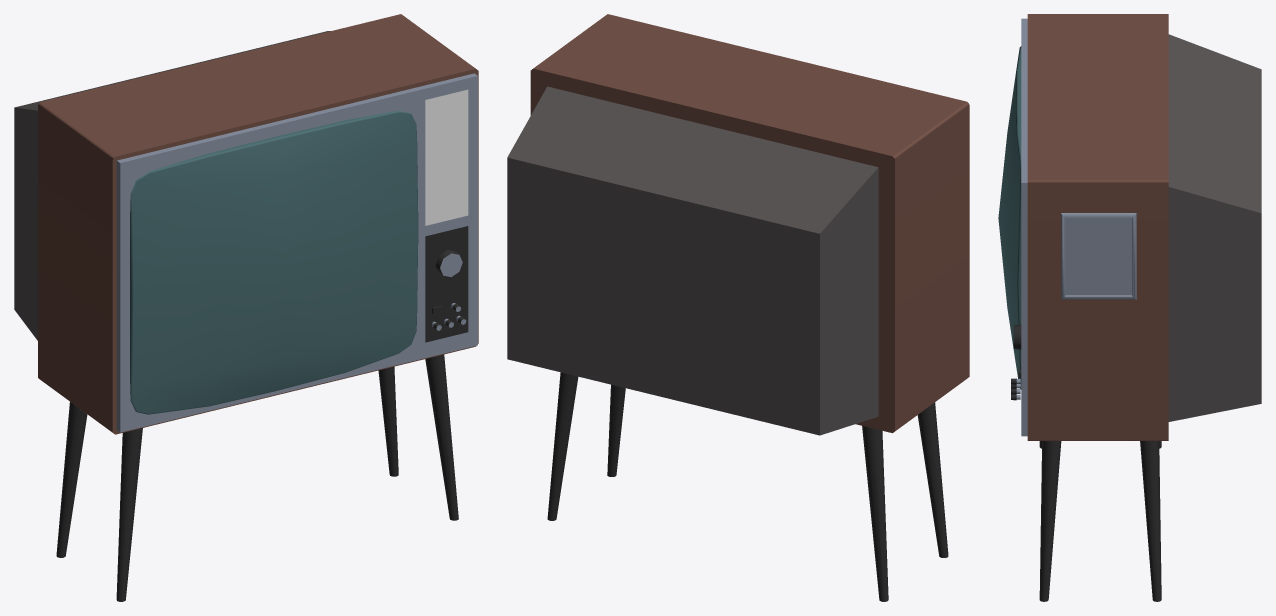
Rendered from TVDraft.fbx.
3 renders of one model, left to right at view 1: azimuth 30°, elevation 25°; view 2: azimuth 150°, elevation 25°; view 3: azimuth 270°, elevation 25°, orthographic. The views are drawn at different scales.
Visible parts, largest first — view 1: TV-Draft-2; view 2: TV-Draft-2; view 3: TV-Draft-2.
Part boxes in pixels (x1,y1,x2,y2): TV-Draft-2: [14, 14, 478, 601]; TV-Draft-2: [507, 14, 969, 601]; TV-Draft-2: [998, 14, 1261, 601].
Size of the model in its own units: 0.9036 by 1.06 by 0.595.
